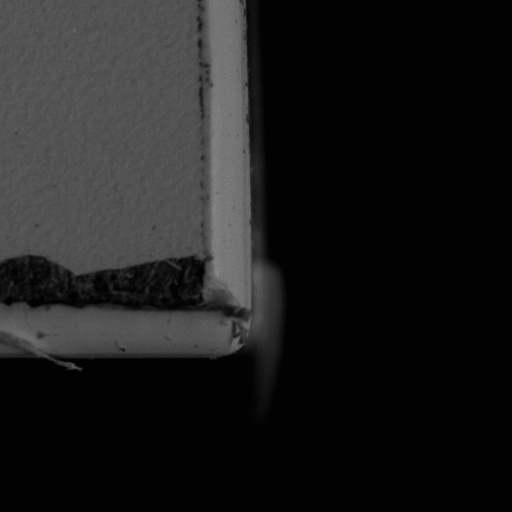bengque: (75, 252, 205, 312), (1, 249, 73, 308)
